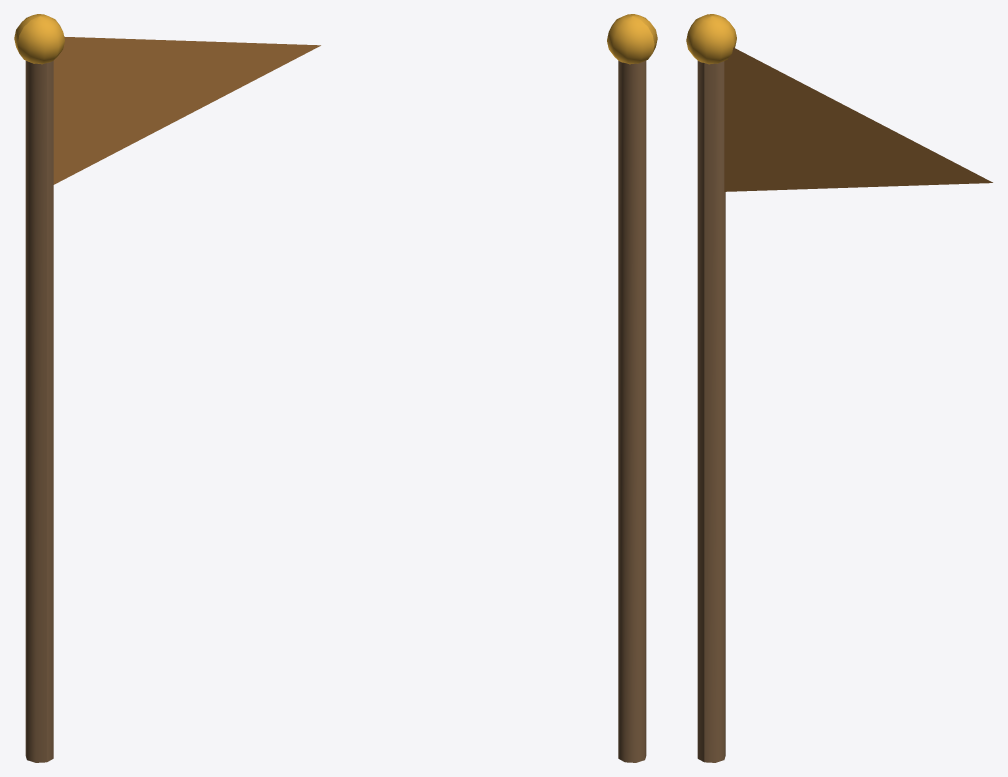
Rendered from held-item.glb.
3 renders of one model, left to right at view 1: azimuth 30°, elevation 25°; view 2: azimuth 150°, elevation 25°; view 3: azimuth 330°, elevation 25°, orthographic.
Parts seen in each view (by area): view 1: flag; view 2: flag; view 3: flag.
Part boxes in pixels (box(x1,y1,x2,y2)): flag: box(14, 14, 320, 762); flag: box(607, 14, 657, 762); flag: box(686, 14, 992, 762).
Size of the model in its own units: 0.384 by 0.893 by 0.0533.
